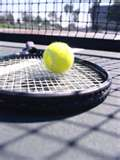tennis ball: (43, 41, 75, 74)
